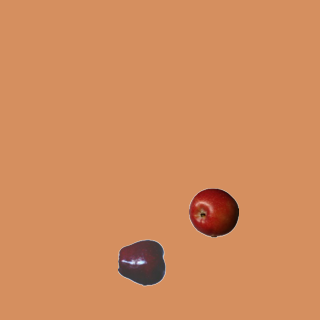Apple Braeburn: (188, 187, 238, 237)
Apple Red Delicious: (117, 237, 167, 287)
